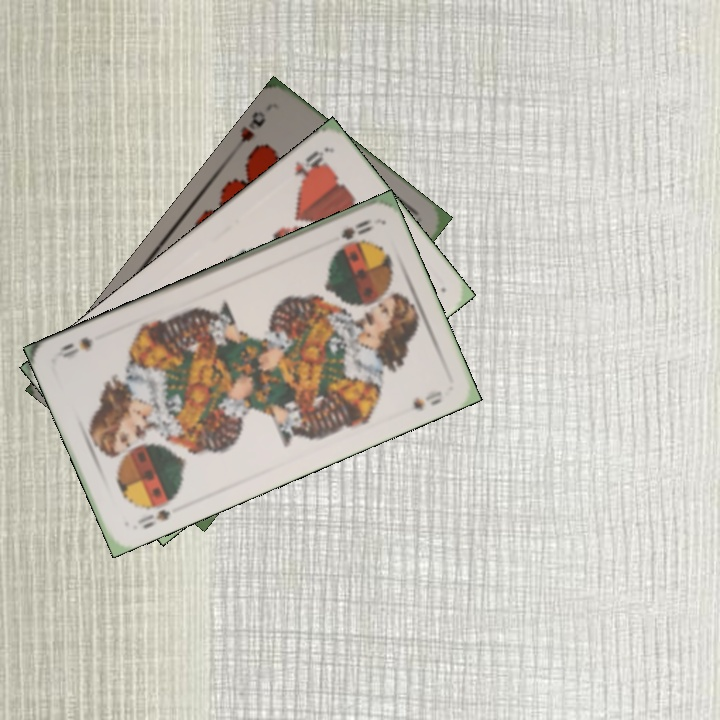H9: (232, 109, 269, 154)
HO: (289, 146, 328, 185)
SO: (337, 215, 377, 243), (133, 505, 173, 532)
